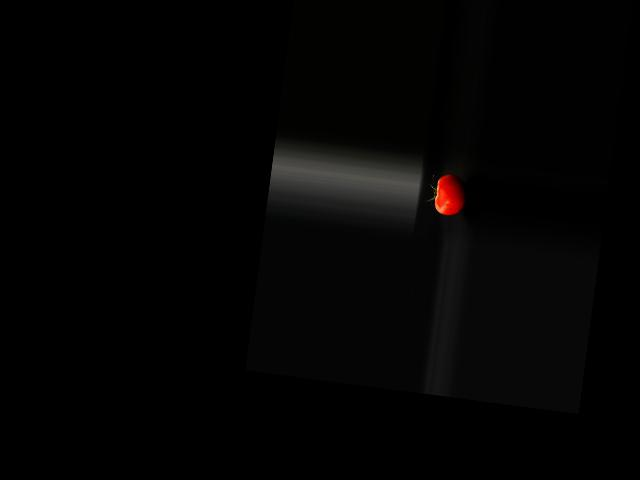tomato: (433, 173, 469, 218)
